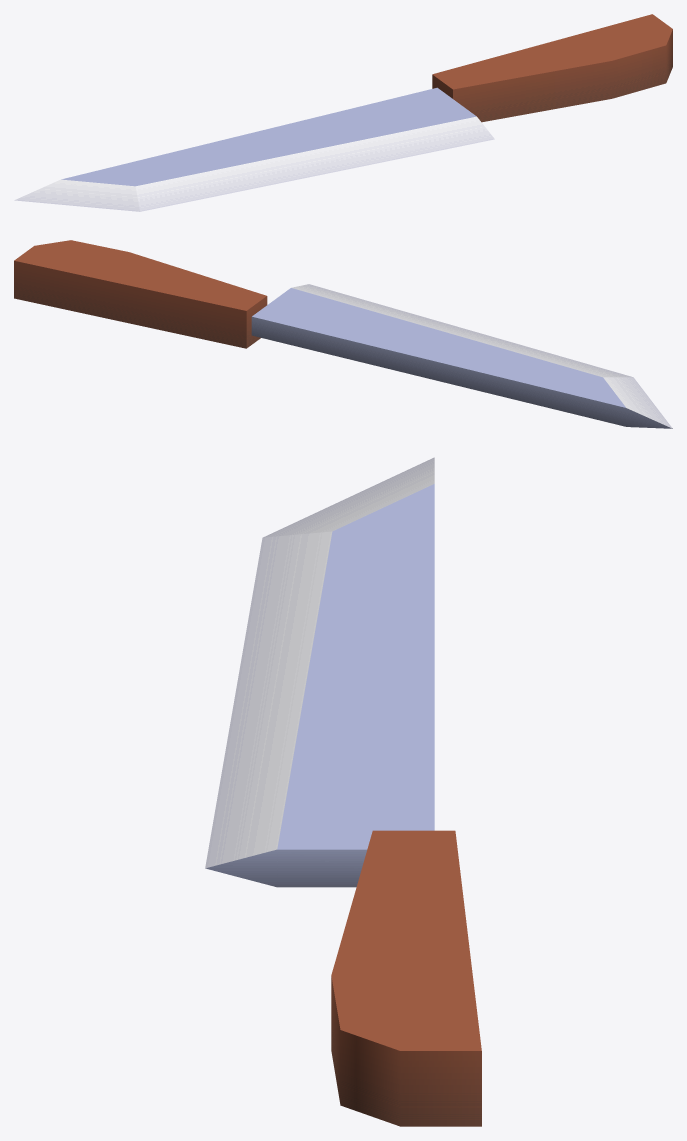
The model's file is kf_cooking-knife.glb.
3 views of the same model, one above another, from view 1: azimuth 30°, elevation 25°; view 2: azimuth 150°, elevation 25°; view 3: azimuth 270°, elevation 25° (orthographic). The views are drawn at different scales.
Visible parts, largest first — view 1: cooking-knife; view 2: cooking-knife; view 3: cooking-knife.
Part boxes in pixels (box(x1,y1,x2,y2)): cooking-knife: box(14, 14, 672, 211); cooking-knife: box(14, 240, 672, 428); cooking-knife: box(205, 457, 481, 1126).
Size of the model in its own units: 0.2088 by 0.0116 by 0.0387.
Materials: 1 (1 with a texture image).
